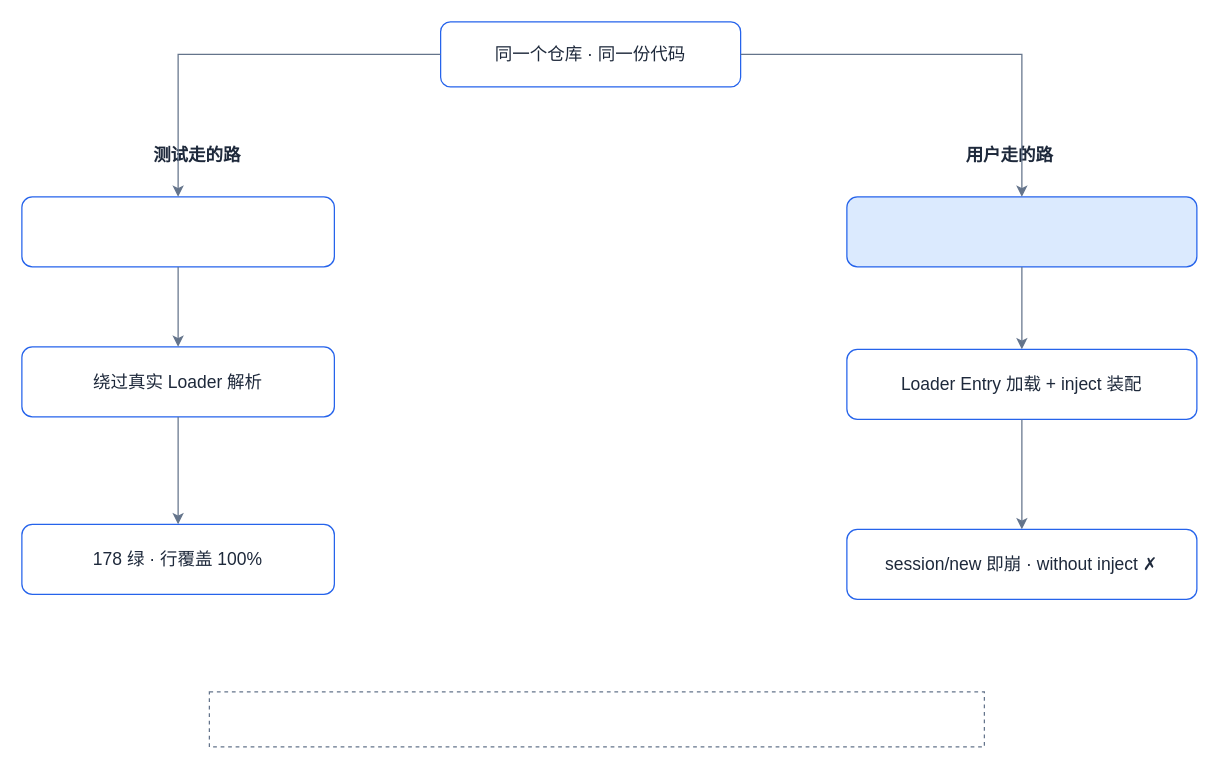
Image size: 1219x769. Some labels were removed from this diagram. The shapes that lost their labels are listed below. From the top down, each one's box as (x1, y1, x2, y2) in pixels, then its label:
(21, 196, 334, 267): 测试内手工挂载插件
(846, 196, 1197, 267): 真实编辑器 Zed 连接
(208, 691, 984, 747): 行覆盖 ≠ 路径覆盖：绿灯只证左泳道
